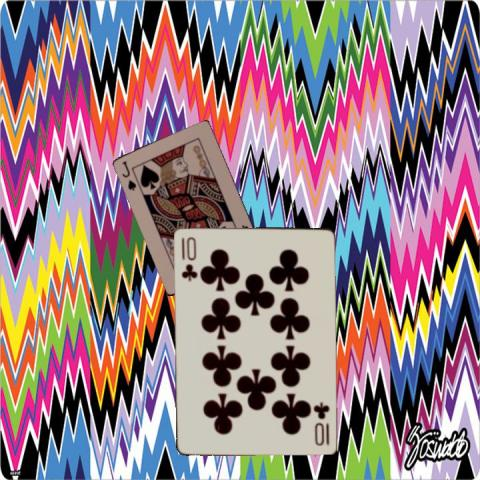10c: (178, 233, 198, 283), (310, 399, 330, 447)
Js: (119, 158, 138, 192)
